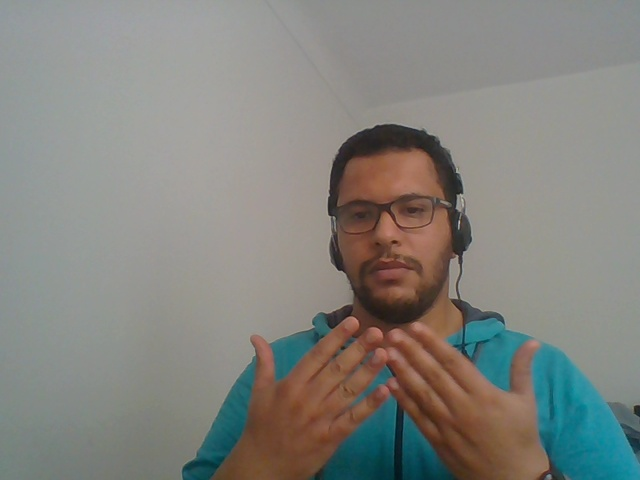thanks: (210, 288, 602, 480)
